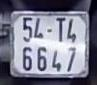4: (33, 15, 46, 45), (51, 46, 63, 74), (67, 17, 77, 42)
5: (22, 15, 34, 45)
6: (35, 46, 49, 74), (21, 45, 34, 73)
7: (66, 45, 77, 75)
T: (55, 15, 67, 44)
